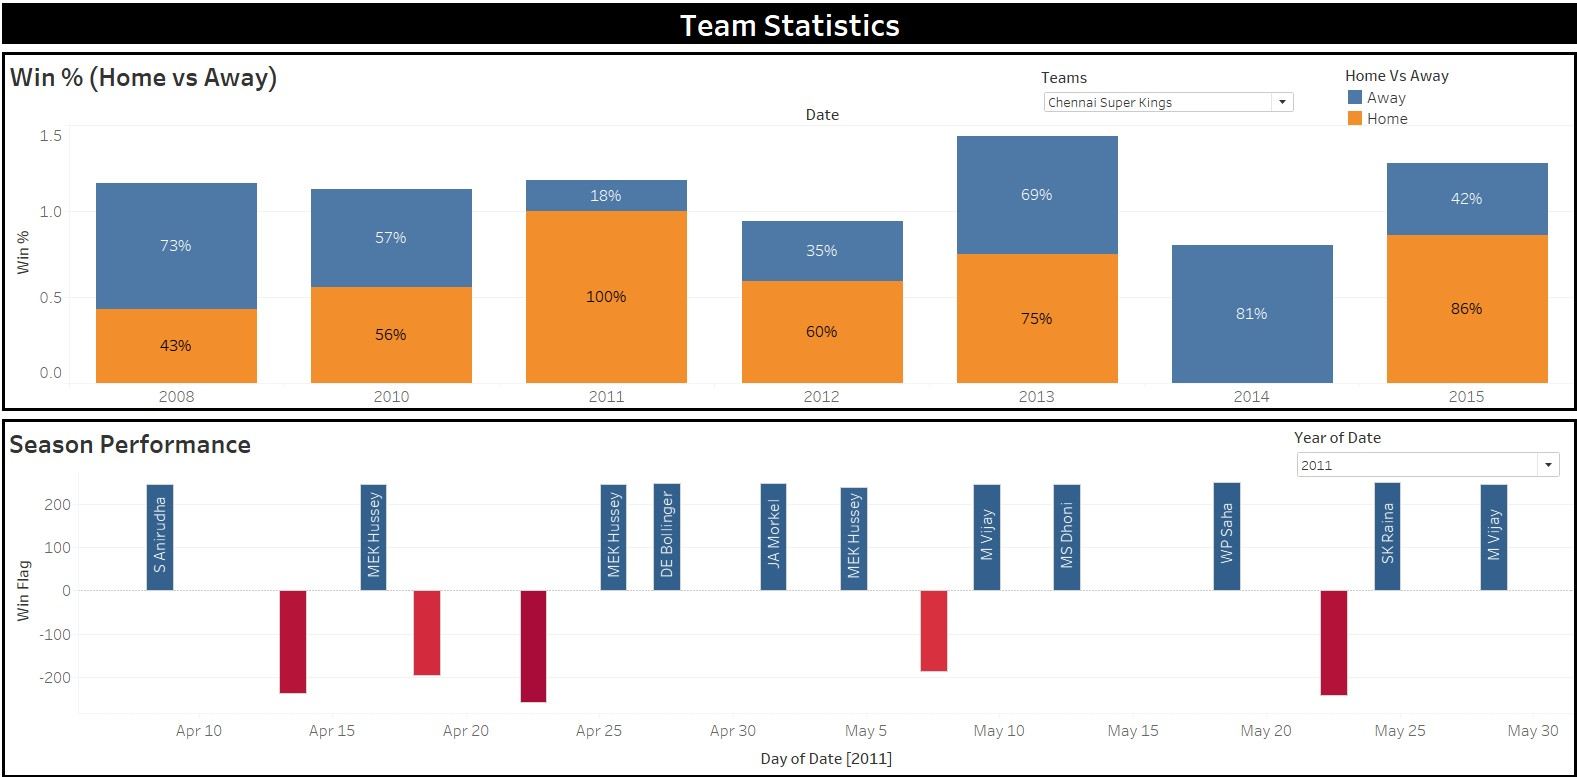

This screenshot's page, from the dashboard's own definition file:
{"tool":"tableau","page":{"name":"Team Statistics","canvas":[1600,800],"ordinal":2},"visuals":[{"type":"title","box":[8,8,1584,49]},{"type":"worksheet","title":"Win % (Home vs Away)","mark":"Bar","rows":["Calculation_160159281728983044"],"cols":["date"],"box":[8,57,1584,367.5]},{"type":"legend","title":"Win % (Home vs Away)","param":"[federated.0wkk9it1j331jq12wii9s0wn6xrt].[none:Calculation_160159281730183174:nk","box":[1355,74,224,64]},{"type":"parameter","param":"[Parameters].[Parameter 2]","box":[1051,76,256,48]},{"type":"worksheet","title":"Season Performance","mark":"Bar","rows":["Calculation_160159281728663555"],"cols":["date"],"box":[8,424.5,1584,367.5]},{"type":"filter","title":"Season Performance","param":"[federated.0wkk9it1j331jq12wii9s0wn6xrt].[yr:date:ok]","box":[1304,436,269,61]}]}

Visuals, with their boxes in screenshot pixels (x1, y1, x2, y2), scaled from the page's 1600x800 canvas onto the 1577x777 screenshot:
title: [x1=8, y1=8, x2=1569, y2=55]
"Win % (Home vs Away)" worksheet (Bar marks): [x1=8, y1=55, x2=1569, y2=412]
"Win % (Home vs Away)" legend: [x1=1336, y1=72, x2=1556, y2=134]
parameter: [x1=1036, y1=74, x2=1288, y2=120]
"Season Performance" worksheet (Bar marks): [x1=8, y1=412, x2=1569, y2=769]
"Season Performance" filter: [x1=1285, y1=423, x2=1550, y2=483]
